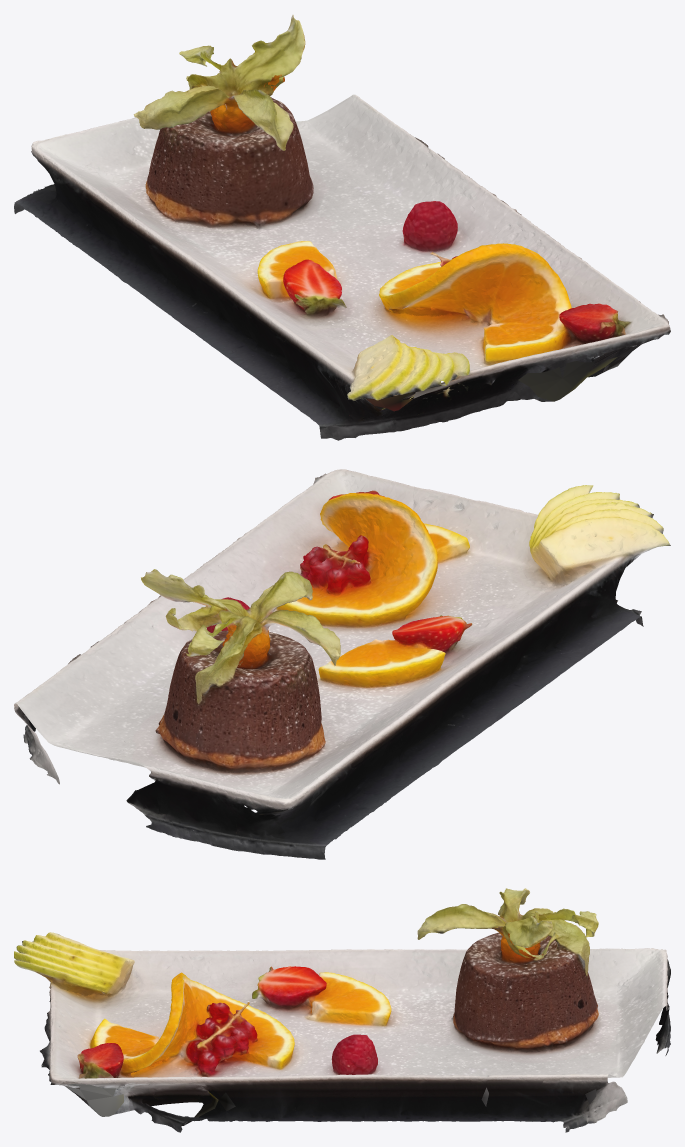
Rendered from objet.glb.
3 renders of one model, top to bottom at view 1: azimuth 30°, elevation 25°; view 2: azimuth 150°, elevation 25°; view 3: azimuth 270°, elevation 25°, orthographic. The views are drawn at different scales.
Parts seen in each view (by area): view 1: Mesh_0_Part_0; view 2: Mesh_0_Part_0; view 3: Mesh_0_Part_0.
Boxes of the visible parts, x1,y1,x2,y2 form: Mesh_0_Part_0: (14, 15, 670, 440); Mesh_0_Part_0: (14, 469, 670, 859); Mesh_0_Part_0: (14, 888, 670, 1132).
Size of the model in its own units: 0.2297 by 0.1202 by 0.4377.
1 material, 1 textured.
